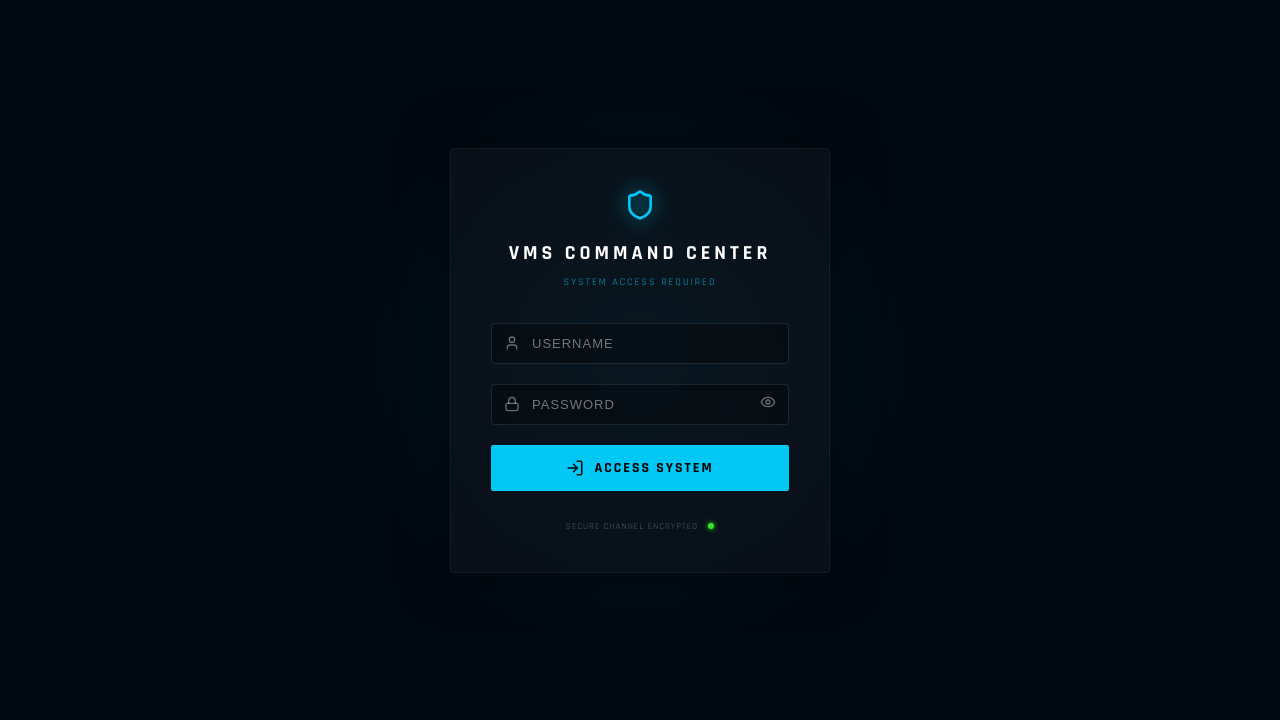
Test: LoginView › failed login surfaces error message visibly (not silent)
The width and height of the screenshot is (1280, 720).
Step 1. Type "admin" into the field with placeholder "USERNAME" → x=640, y=343, box [492,324,788,362]
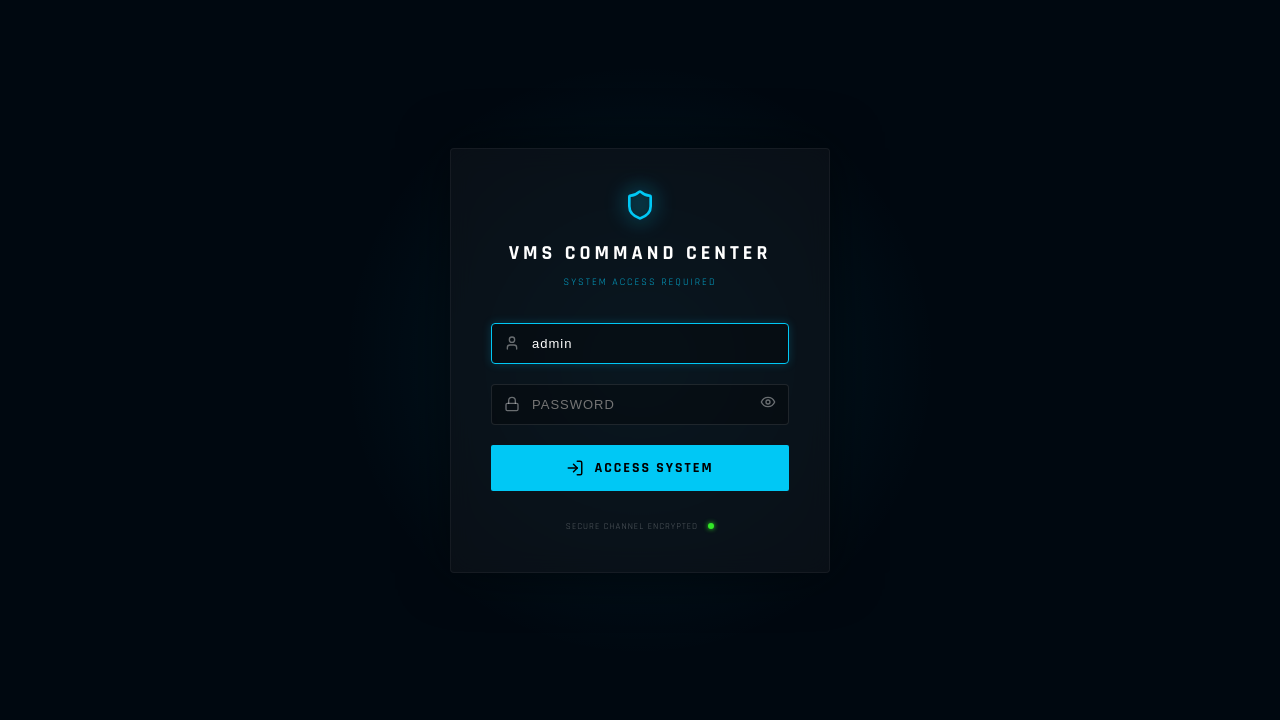
Step 2. Type "wrong" into the password field with placeholder "PASSWORD" → x=640, y=404, box [492,384,788,424]
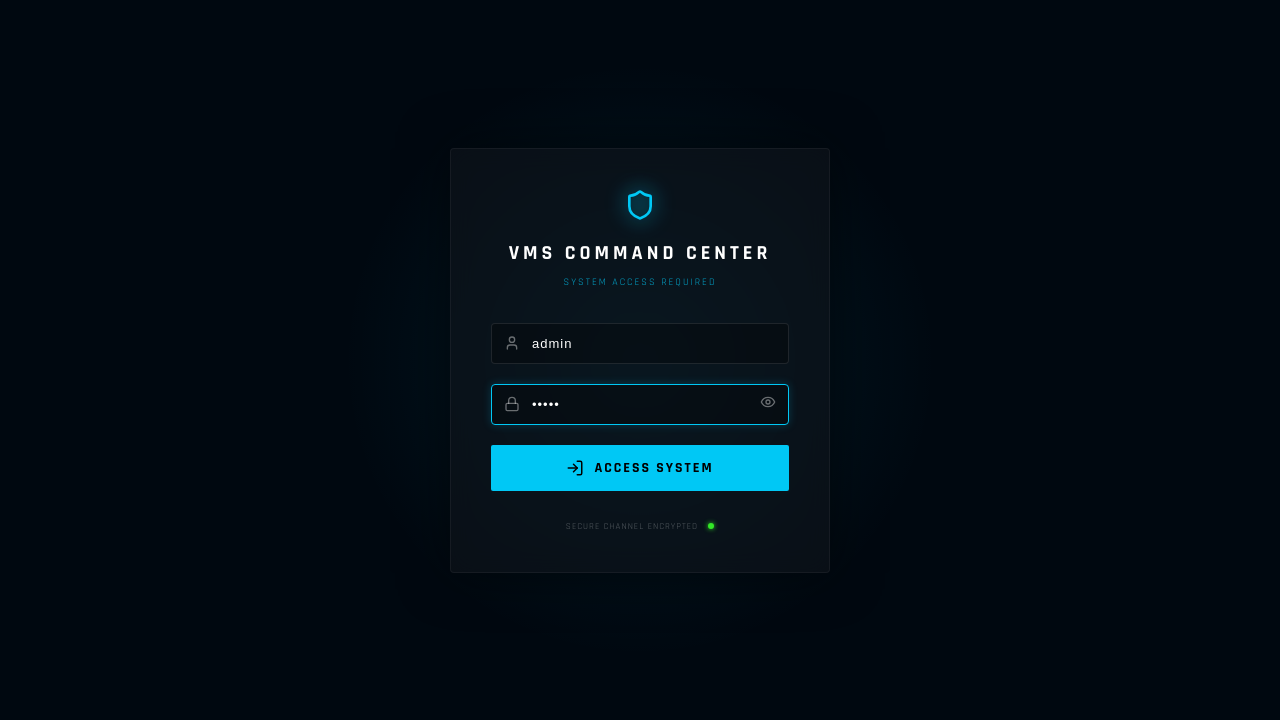
Step 3. Click the button "ACCESS SYSTEM" → x=640, y=468, box [491,444,789,490]
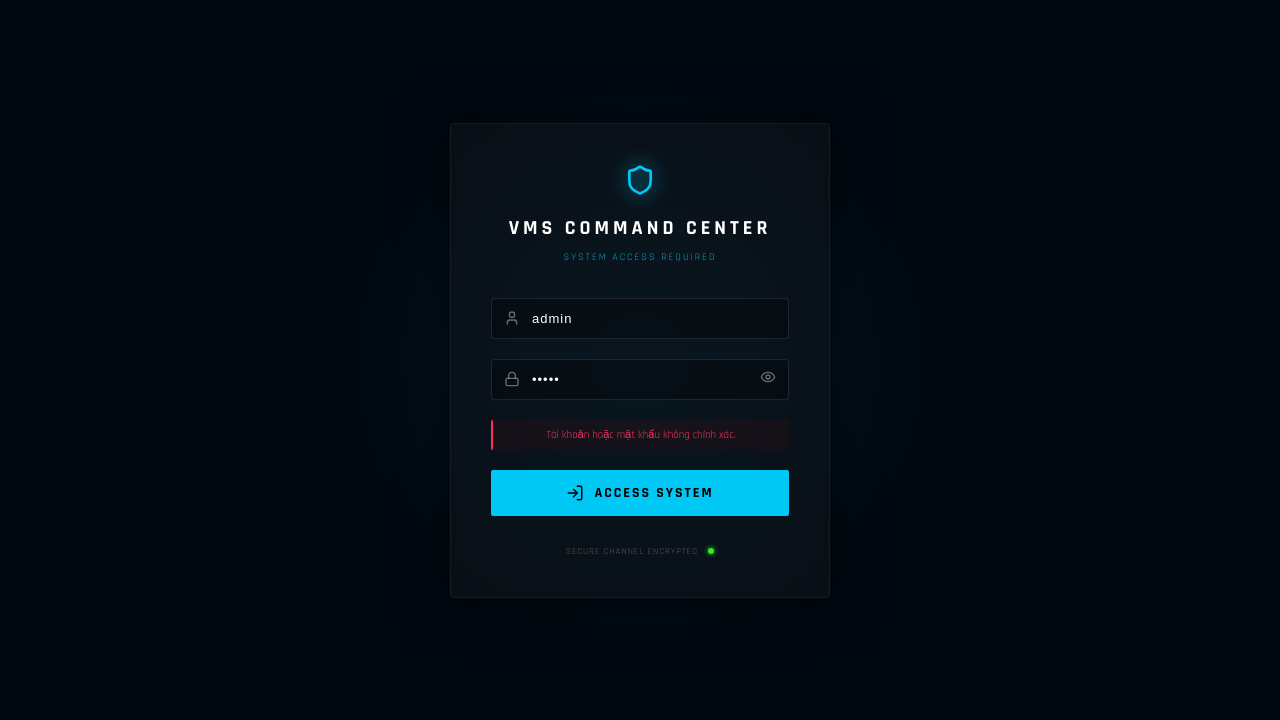
Expected: the text "Tài khoản hoặc mật khẩu không chính xác." is shown, [491,420,789,450]
